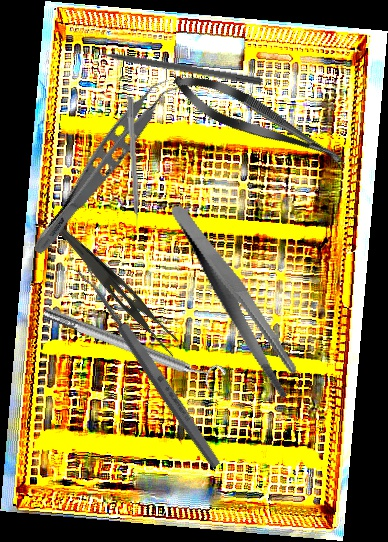Dressing Forceps: (169, 185, 304, 415), (46, 226, 189, 360)
Fixation Ring: (39, 296, 228, 397)
Micro Scissor: (166, 62, 354, 180)
Pusher: (80, 44, 263, 86), (125, 96, 141, 236)
Surgical Spoon: (76, 263, 224, 471)
Tissue Forceps: (27, 68, 183, 267)
